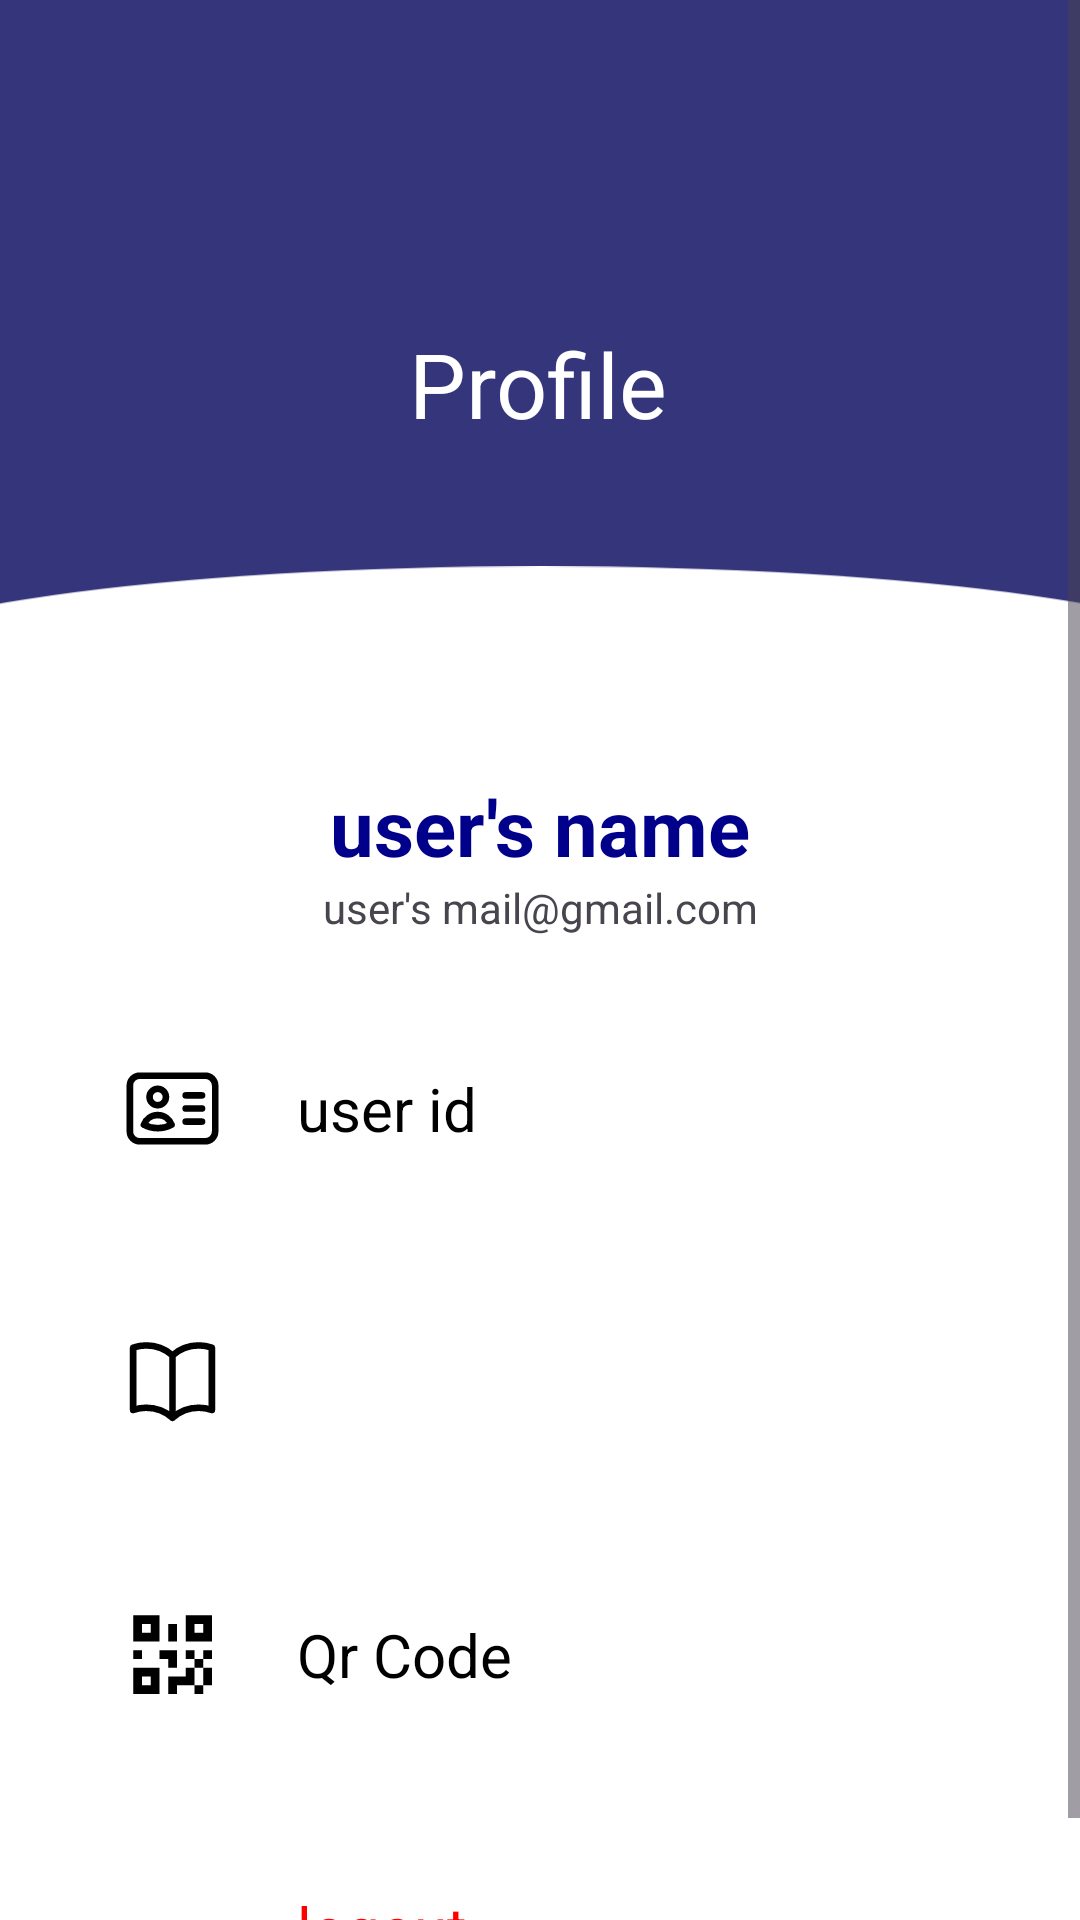

Named icons in this screenshot (1080 x 1920) and their centers, point (x, y):
book: point (172, 1382)
